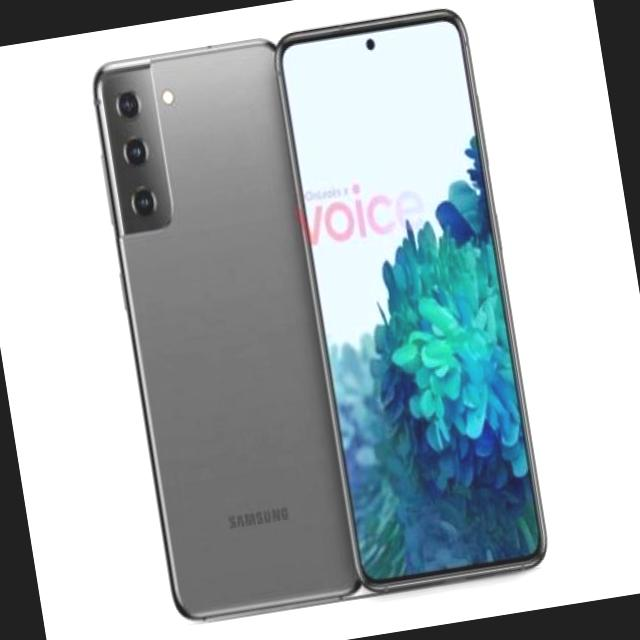lens_back: (128, 182, 164, 226), (112, 87, 150, 122), (119, 134, 154, 170)
phone: (271, 0, 556, 601), (86, 29, 367, 633)
